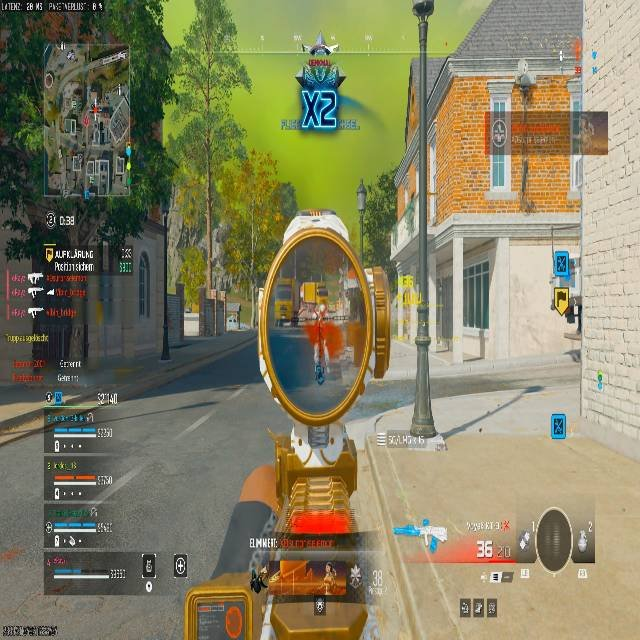head: (309, 41, 333, 66)
player: (294, 44, 345, 128), (312, 332, 328, 385)
